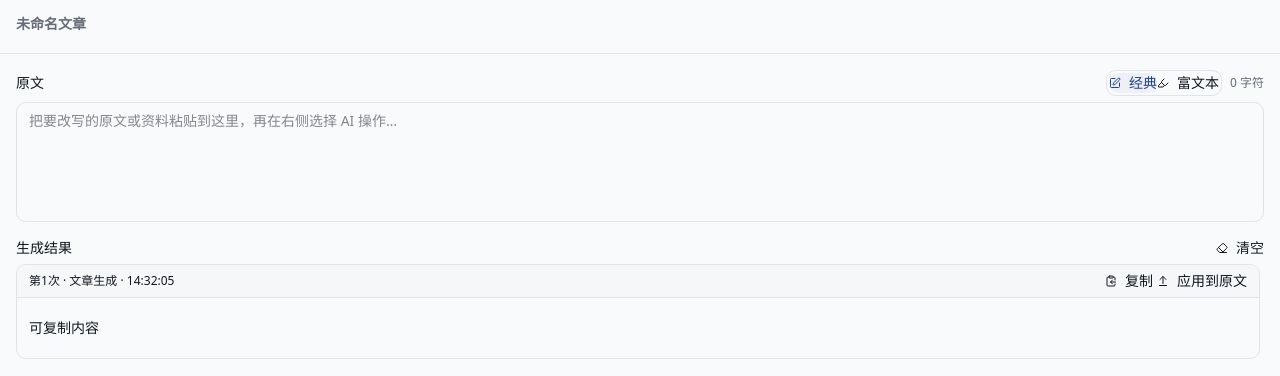
Test case: EditorPanel › 「复制」把生成内容写入剪贴板并提示已复制
Click the button with aria-label "复制生成结果" at (1129, 281), box [1105, 271, 1153, 291]
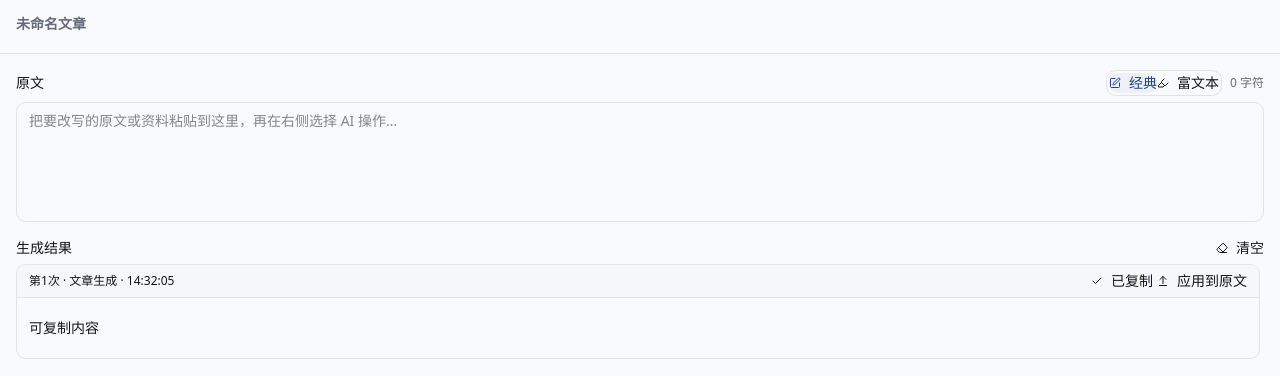
expect the button "已复制" is shown: met, box [1091, 271, 1153, 291]
